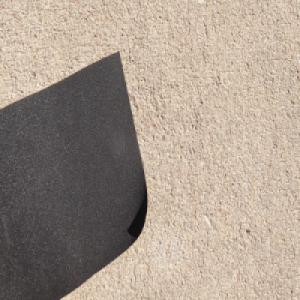PaintChip: (0, 48, 148, 300)
